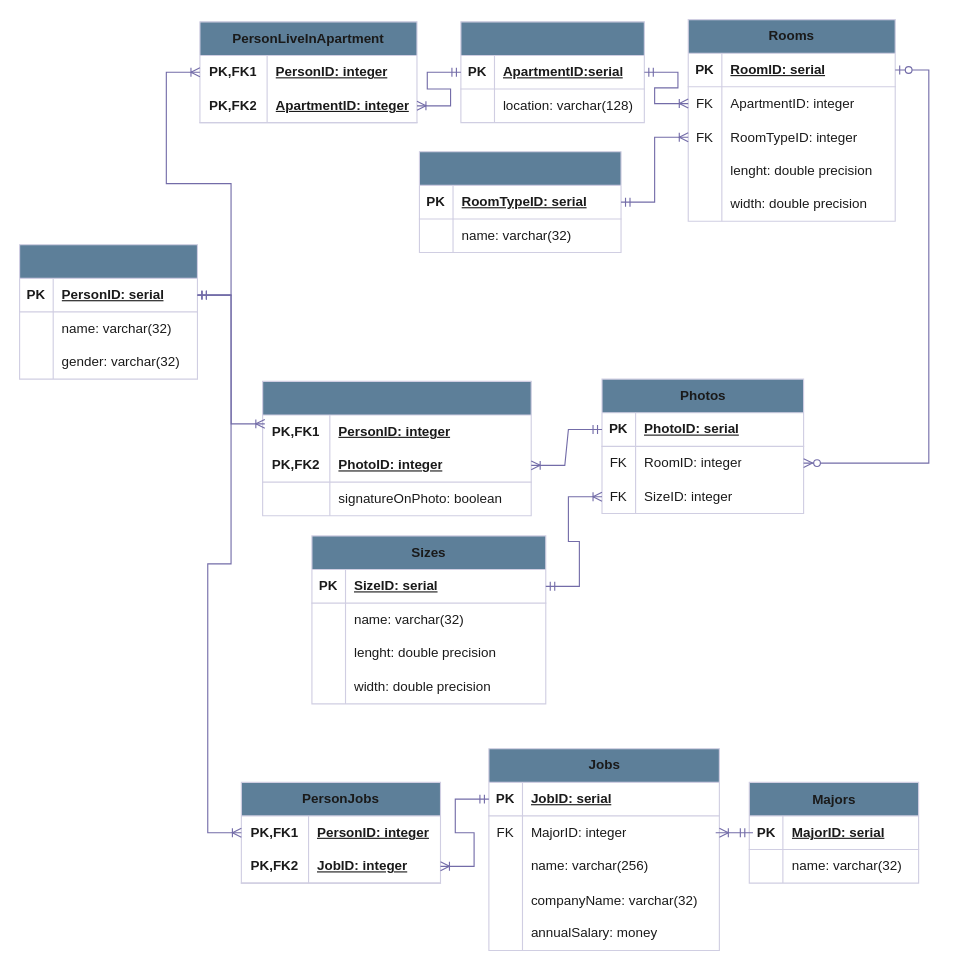
This 959x971 diagram has some shape labels left out. The shapes that lost their labels are listed below. From the top down, each one's box as (x1, y1, x2, y2) in pixels, then its label:
(460, 21, 644, 123): Apartments
(418, 151, 621, 253): RoomTypes
(18, 244, 197, 379): People
(262, 380, 531, 516): PersonOnPhoto
